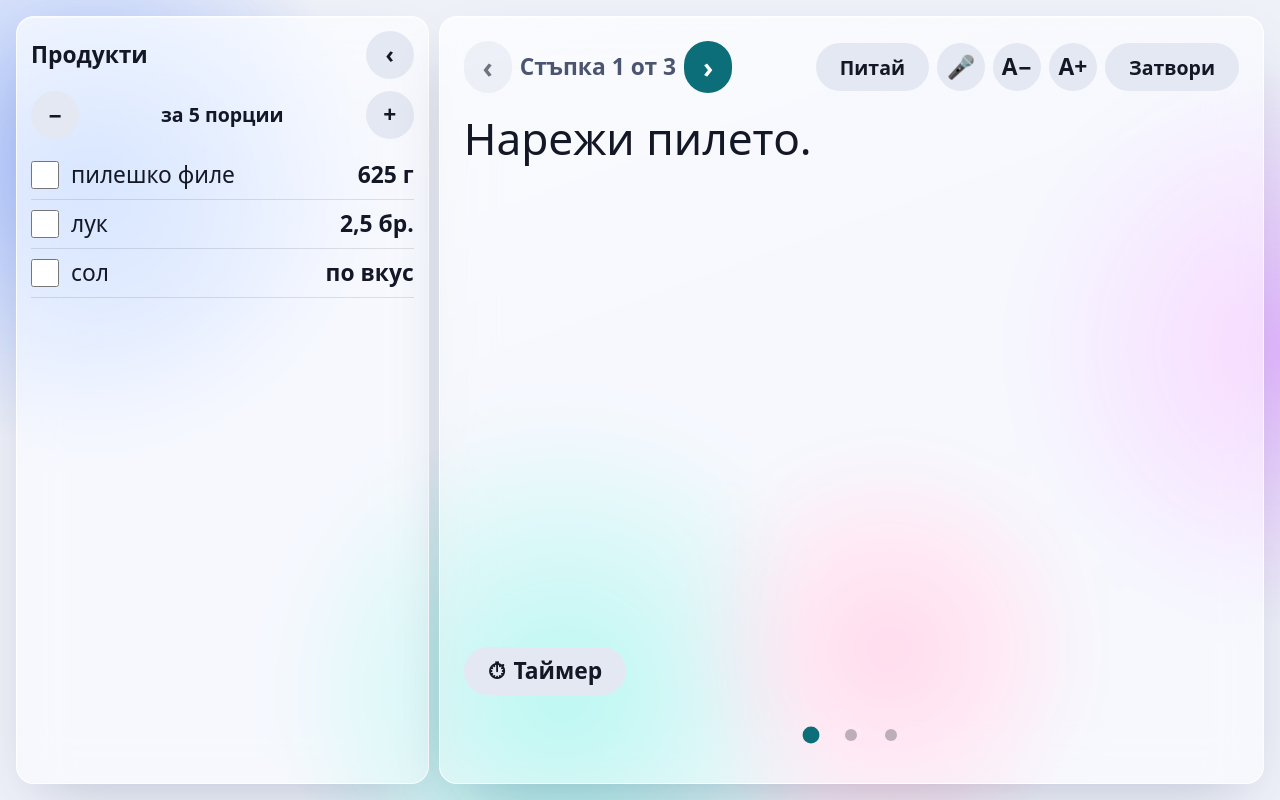
Test case: Въпрос в Готвене › при неуспех показва съобщението за кода, а „Опитай пак“ праща същия въпрос отново
Expected: the text "Стъпка 1 от 3" is shown, [520,52,676,82]
Click the button "Питай" at (872, 67), box [816,43,929,91]
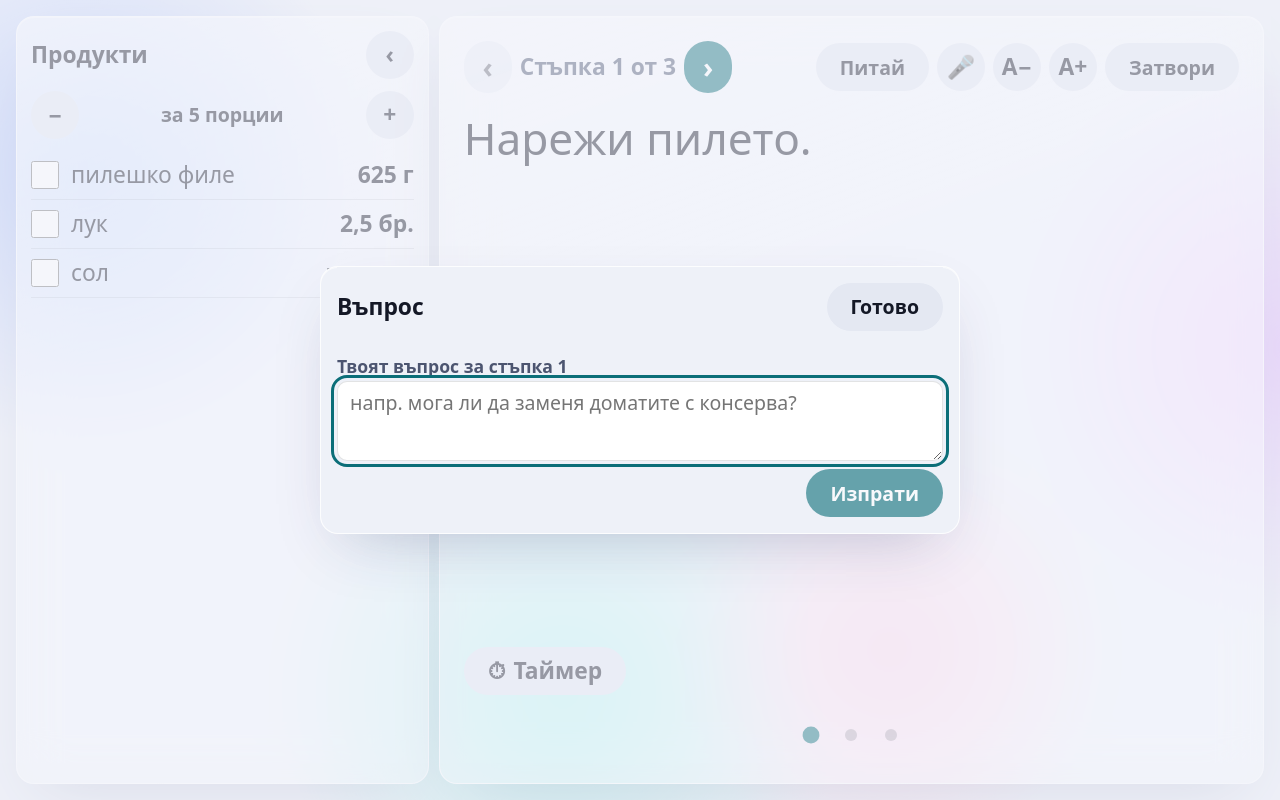
Type "Мога ли с консерва pulp вместо доматите?" into the text box labelled "Твоят въпрос за стъпка 1" at (640, 421), box [337,381,943,461]
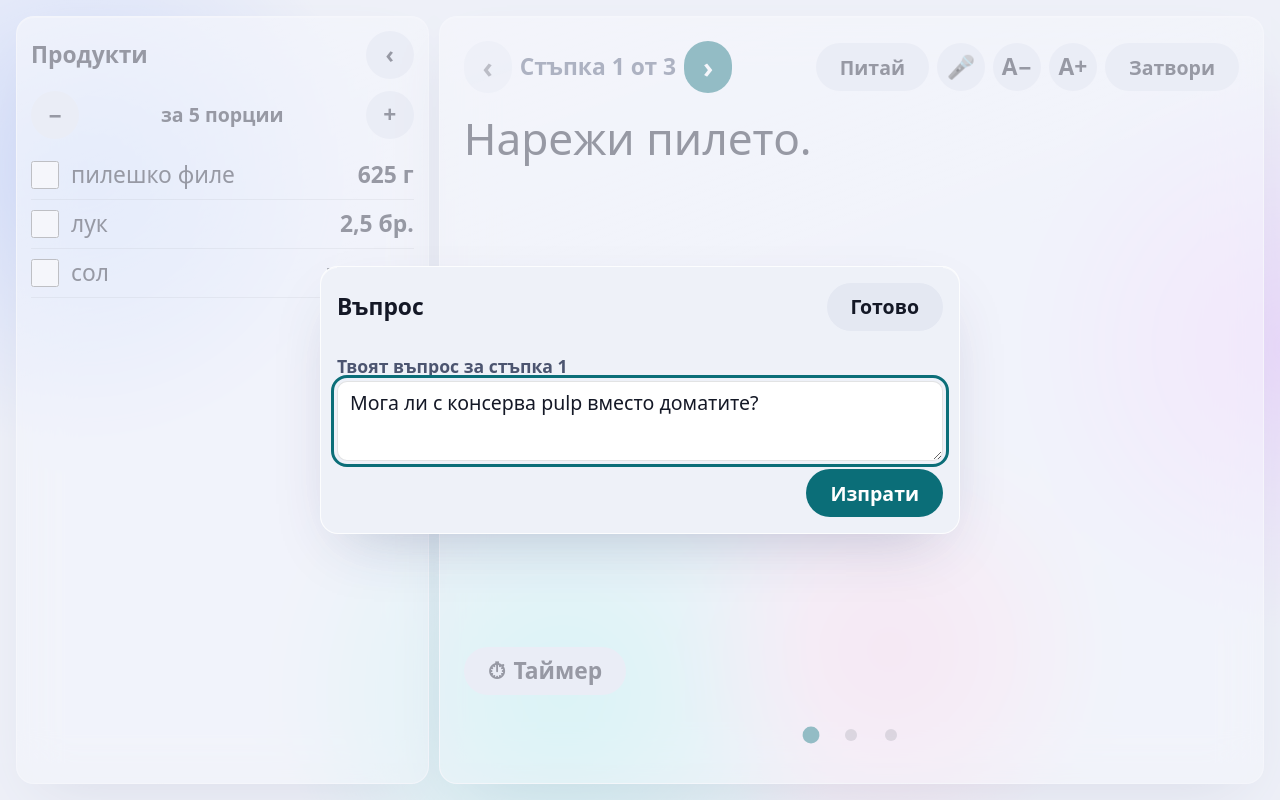
Click the button "Изпрати" at (875, 493), box [806,469,943,517]
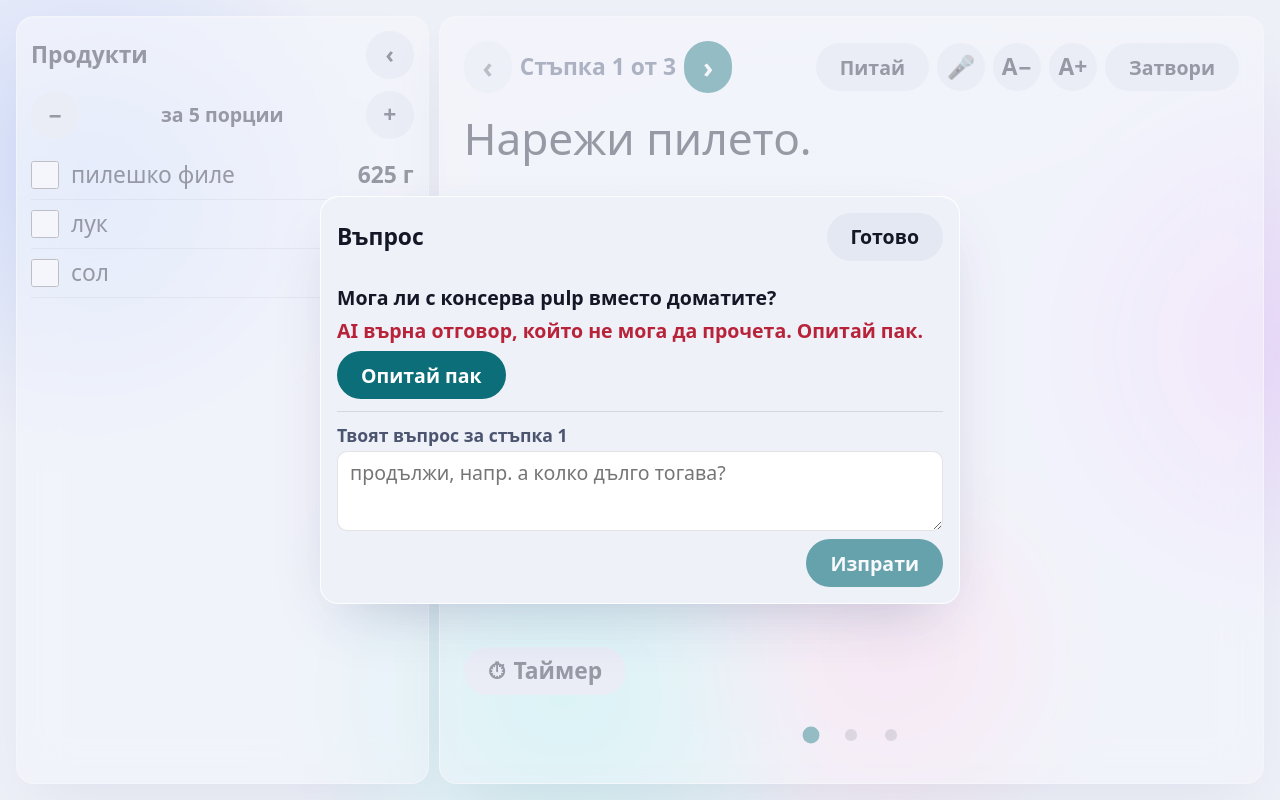
Result: the text "AI върна отговор, който не мога да прочета. Опитай пак." is shown at [337,318,923,344]
Click the button "Опитай пак" at (421, 375), box [337,351,506,399]
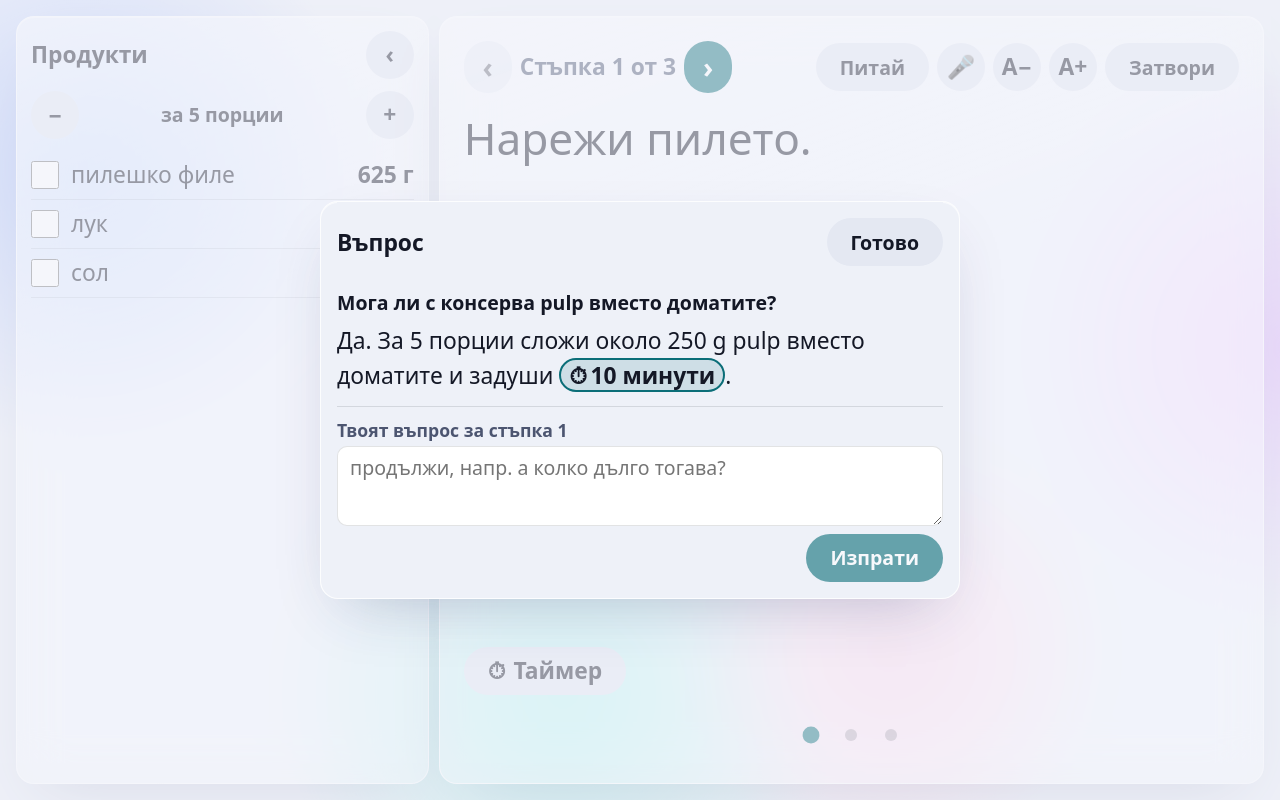
Result: the text "Мога ли с консерва pulp вместо доматите?" is shown once at [337,290,776,316]
Result: the message "Опитай пак" is gone
